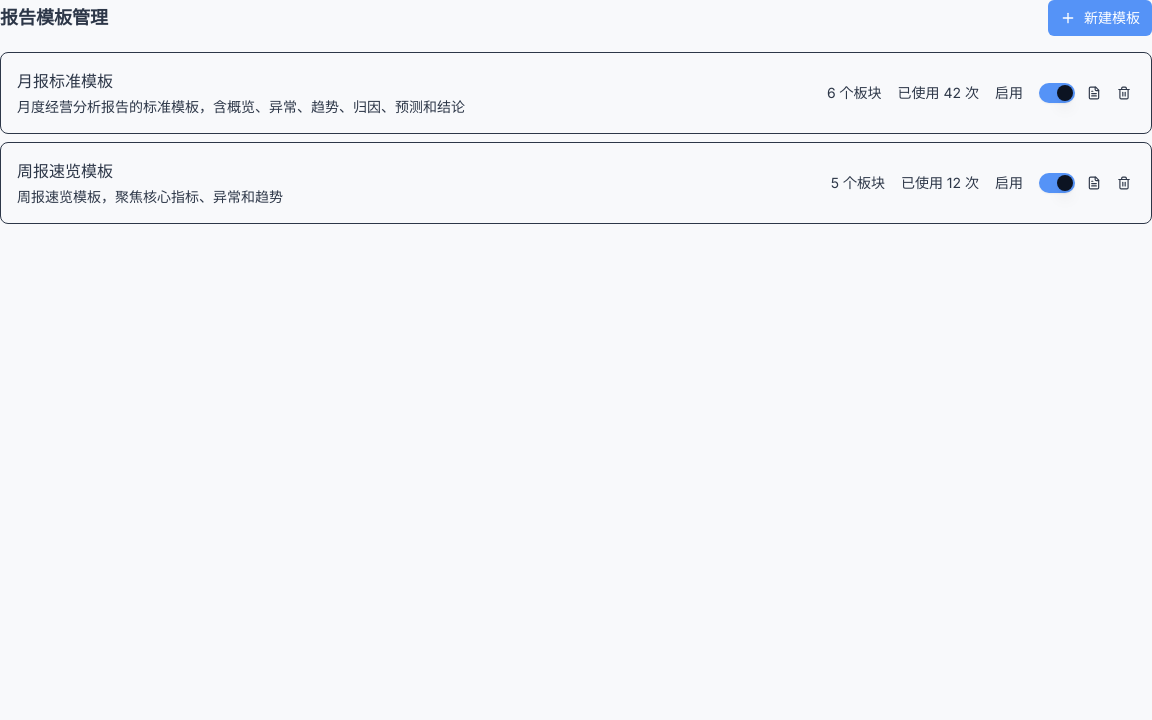
it: ReportTemplatesPage › opens create dialog when clicking 新建模板 button
This screenshot has width=1152, height=720.
What coordinates should you click on to do the following:
click the button "新建模板"
I would click on:
 (1100, 18)
Its box is [1048, 0, 1151, 36].
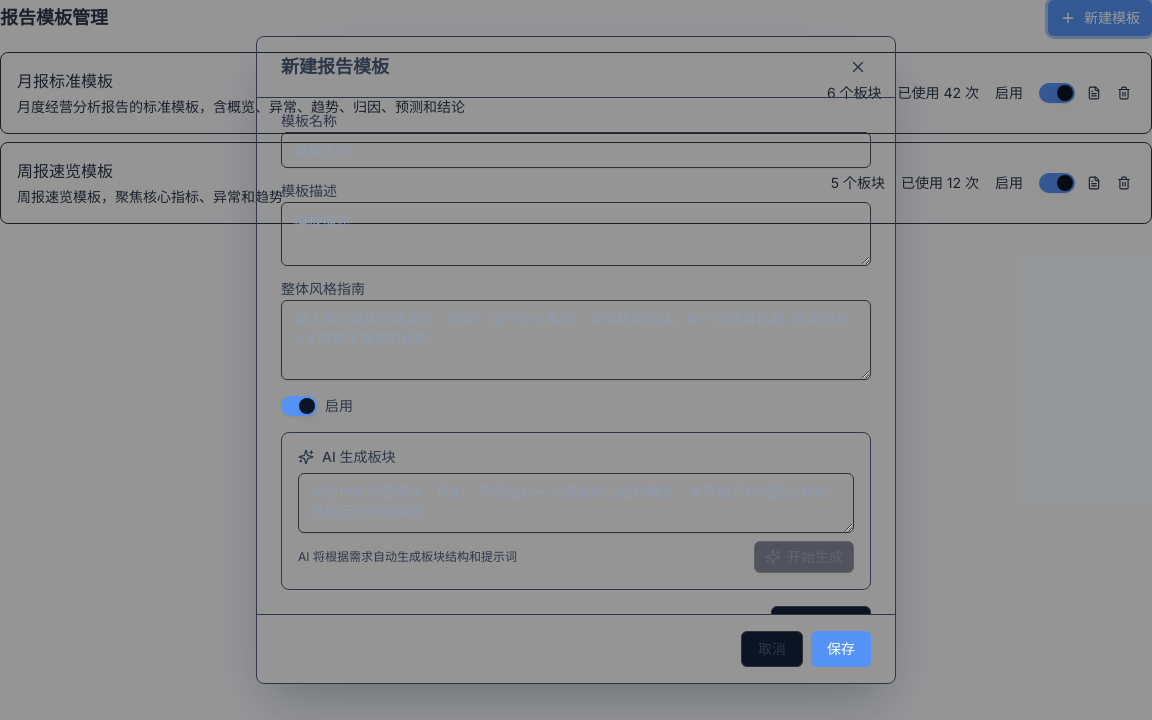
Result: the dialog is shown
Result: the heading "新建报告模板" is shown at [281, 53, 389, 81]
